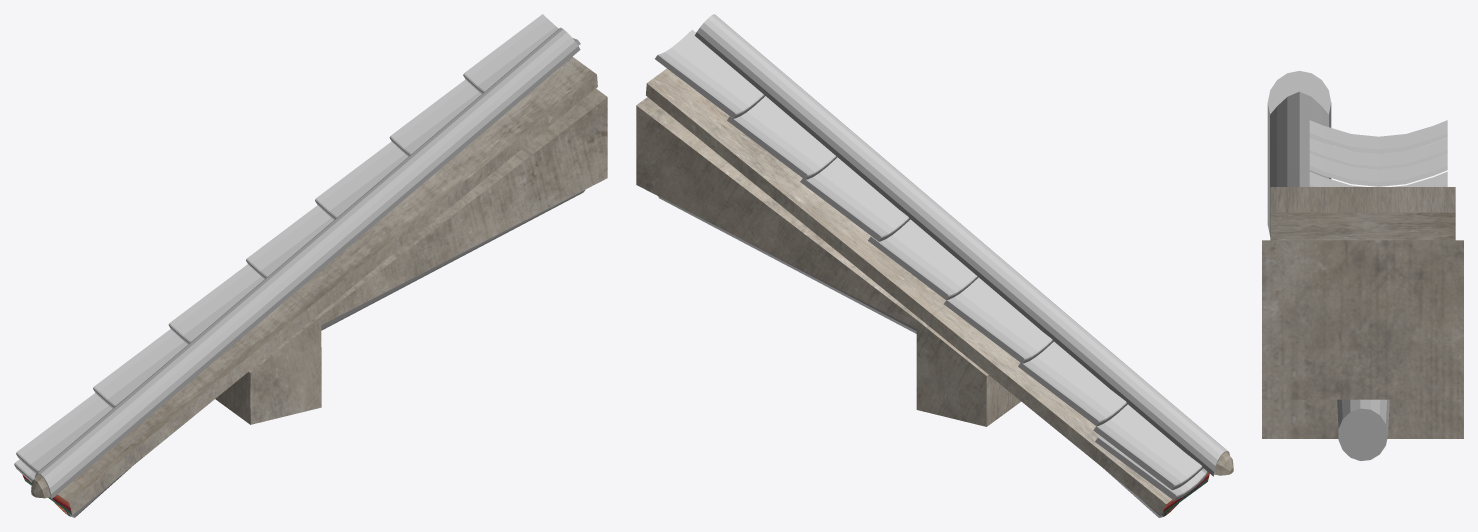
The model's file is SM_Roof_40.fbx.
3 renders of one model, left to right at view 1: azimuth 30°, elevation 25°; view 2: azimuth 150°, elevation 25°; view 3: azimuth 270°, elevation 25°, orthographic. The views are drawn at different scales.
Parts seen in each view (by area): view 1: SM_Roof_40; view 2: SM_Roof_40; view 3: SM_Roof_40.
Boxes of the visible parts, box(x1,y1,x2,y2) form: SM_Roof_40: box(14, 14, 607, 517); SM_Roof_40: box(636, 14, 1233, 517); SM_Roof_40: box(1262, 71, 1463, 460).
Size of the model in its own units: 336 by 52.96 by 218.
